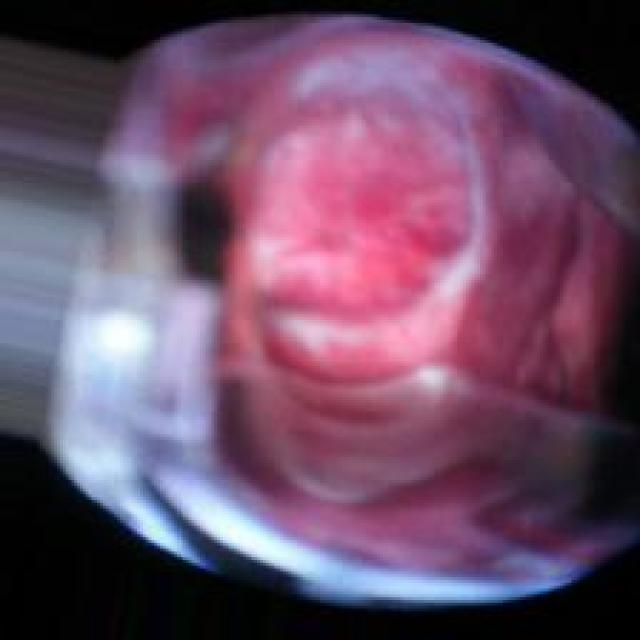type-3: (180, 49, 607, 544)
